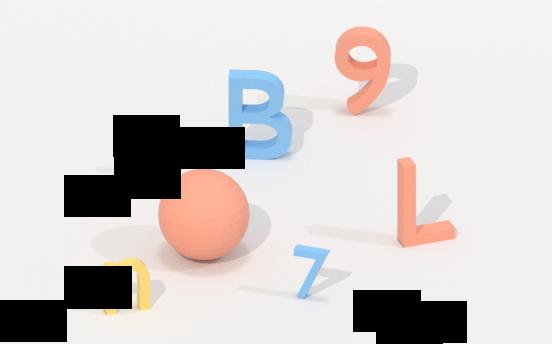7: (290, 242, 332, 304), (147, 123, 190, 183)
9: (332, 23, 395, 123)
b: (224, 64, 296, 164)
cau: (156, 167, 253, 266)
l: (393, 152, 461, 247)
n: (101, 256, 154, 320)
